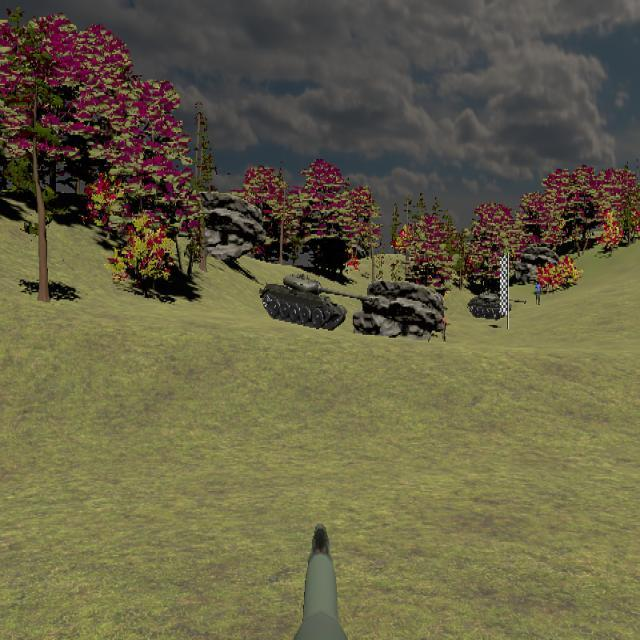Tank: (259, 273, 373, 332), (467, 290, 526, 320)
